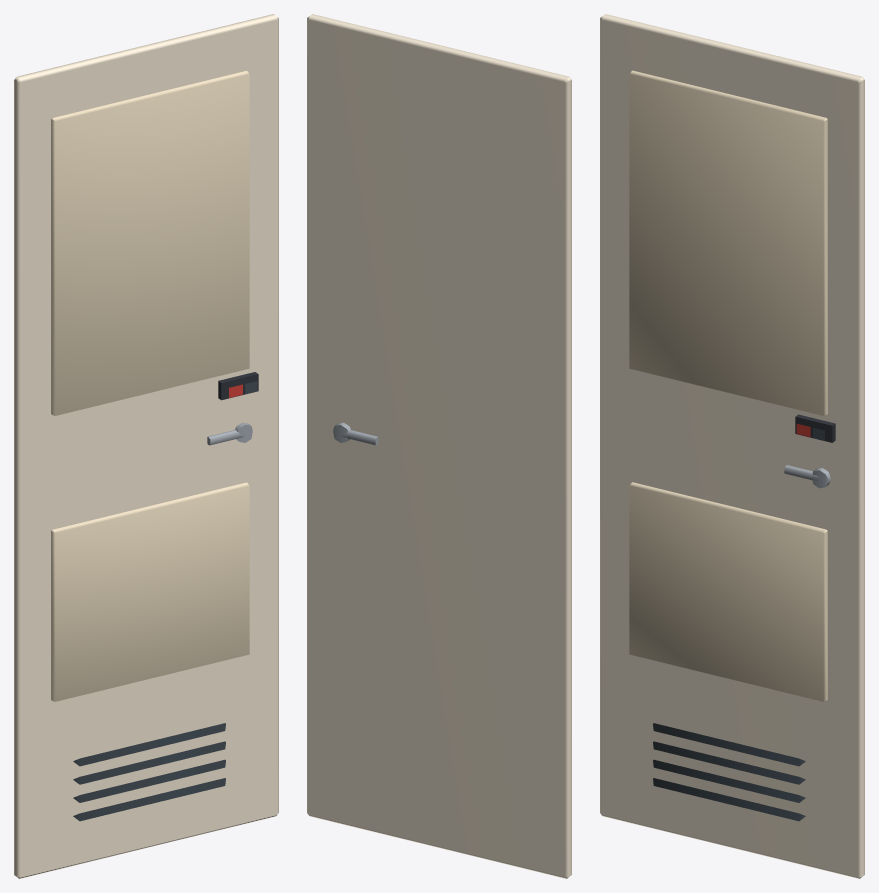
File: PuertaBano.fbx
3 views of the same model, side by side, from view 1: azimuth 30°, elevation 25°; view 2: azimuth 150°, elevation 25°; view 3: azimuth 330°, elevation 25° (orthographic).
Parts seen in each view (by area): view 1: PuertaBano; view 2: PuertaBano; view 3: PuertaBano.
Boxes of the visible parts, bbox=[...] form: PuertaBano: bbox=[14, 14, 278, 878]; PuertaBano: bbox=[307, 14, 571, 878]; PuertaBano: bbox=[600, 14, 864, 878].
Size of the model in its own units: 2.4 by 7 by 0.2406.
1 material, 1 textured.
